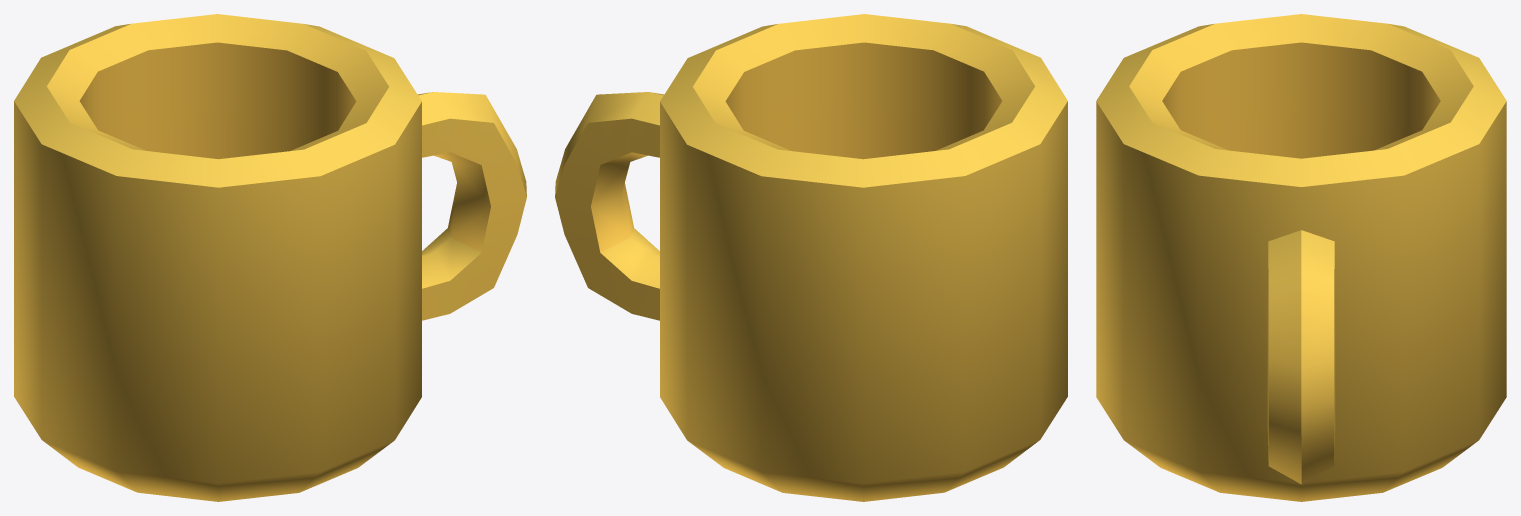
Rendered from Mug Yellow.glb.
The picture shows the model from 3 angles, left to right: view 1: azimuth 30°, elevation 25°; view 2: azimuth 150°, elevation 25°; view 3: azimuth 270°, elevation 25°; orthographic projection.
Visible parts, largest first — view 1: mug_yellow; view 2: mug_yellow; view 3: mug_yellow.
Boxes of the visible parts, bbox=[...] form: mug_yellow: bbox=[14, 14, 526, 501]; mug_yellow: bbox=[555, 14, 1067, 501]; mug_yellow: bbox=[1096, 14, 1506, 501].
Bounding box in the file's own units: 0.5119 × 0.35 × 0.375.
Materials: 1 (1 with a texture image).
